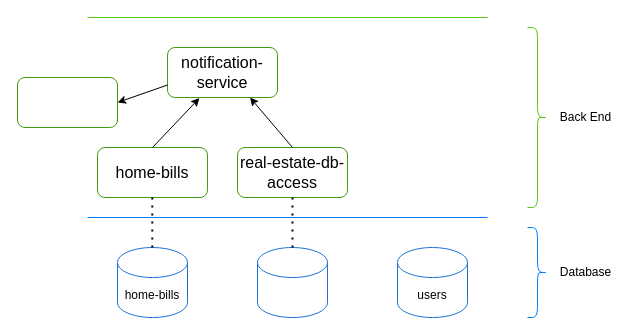
Image size: 638x335. Some labels were removed from this diagram. Each missing label, with the centre of its shape:
"mail-ops" belongs at point 67,102.
"real-estate" belongs at point 292,282.
